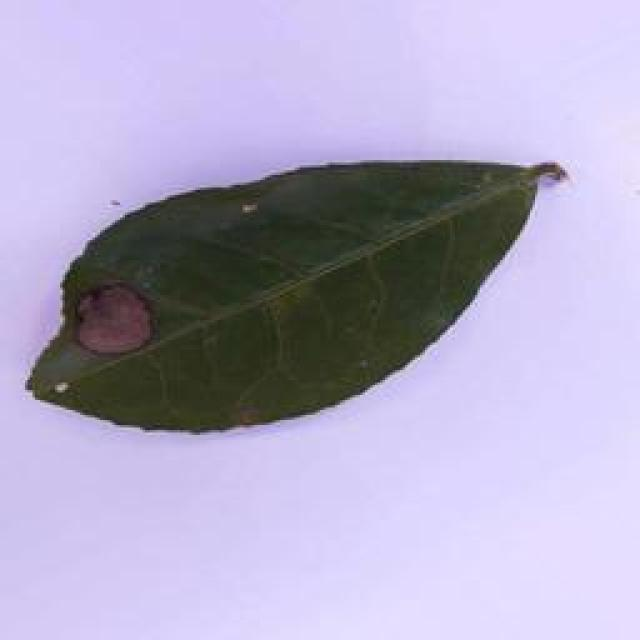Gray Blight: (25, 150, 566, 436)
